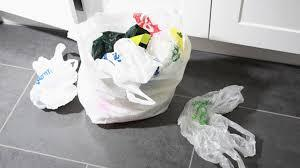Plastic: (175, 84, 258, 167)
